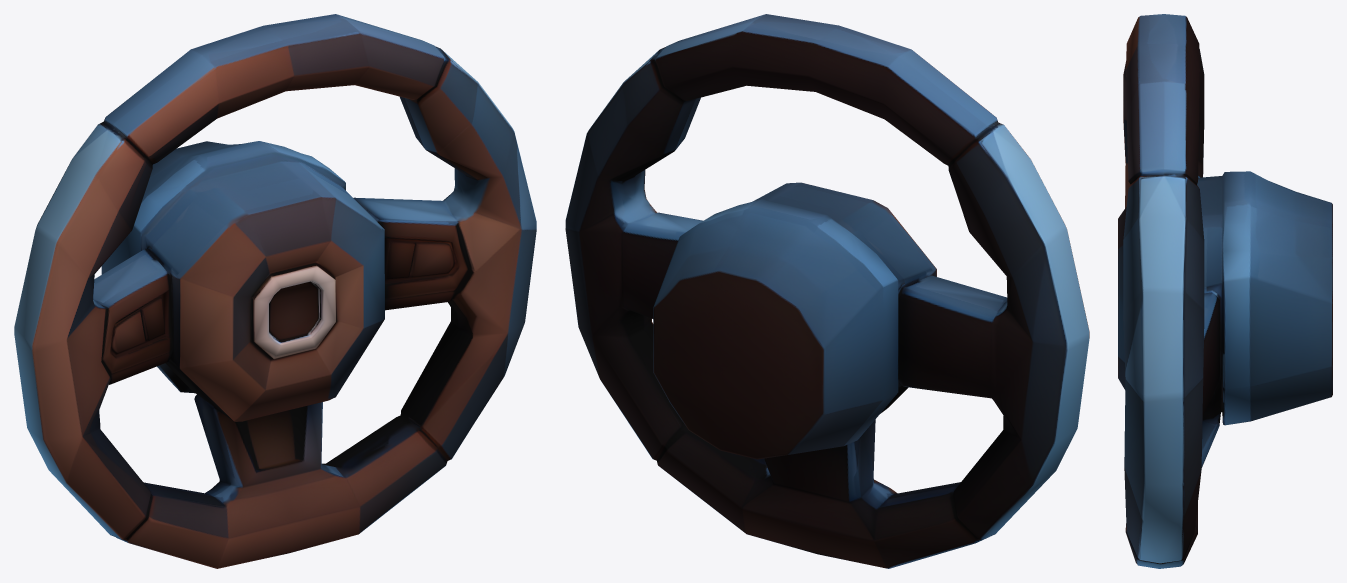
Rendered from steering_wheel.glb.
3 renders of one model, left to right at view 1: azimuth 30°, elevation 25°; view 2: azimuth 150°, elevation 25°; view 3: azimuth 270°, elevation 25°, orthographic. The views are drawn at different scales.
Visible parts, largest first — view 1: material; view 2: material; view 3: material.
Part boxes in pixels (left/top/right/bottom): material: left=14, top=14, right=536, bottom=568; material: left=565, top=14, right=1089, bottom=568; material: left=1118, top=14, right=1332, bottom=568.
Size of the model in its own units: 1.9 by 1.85 by 0.7284.
1 material, 1 textured.
